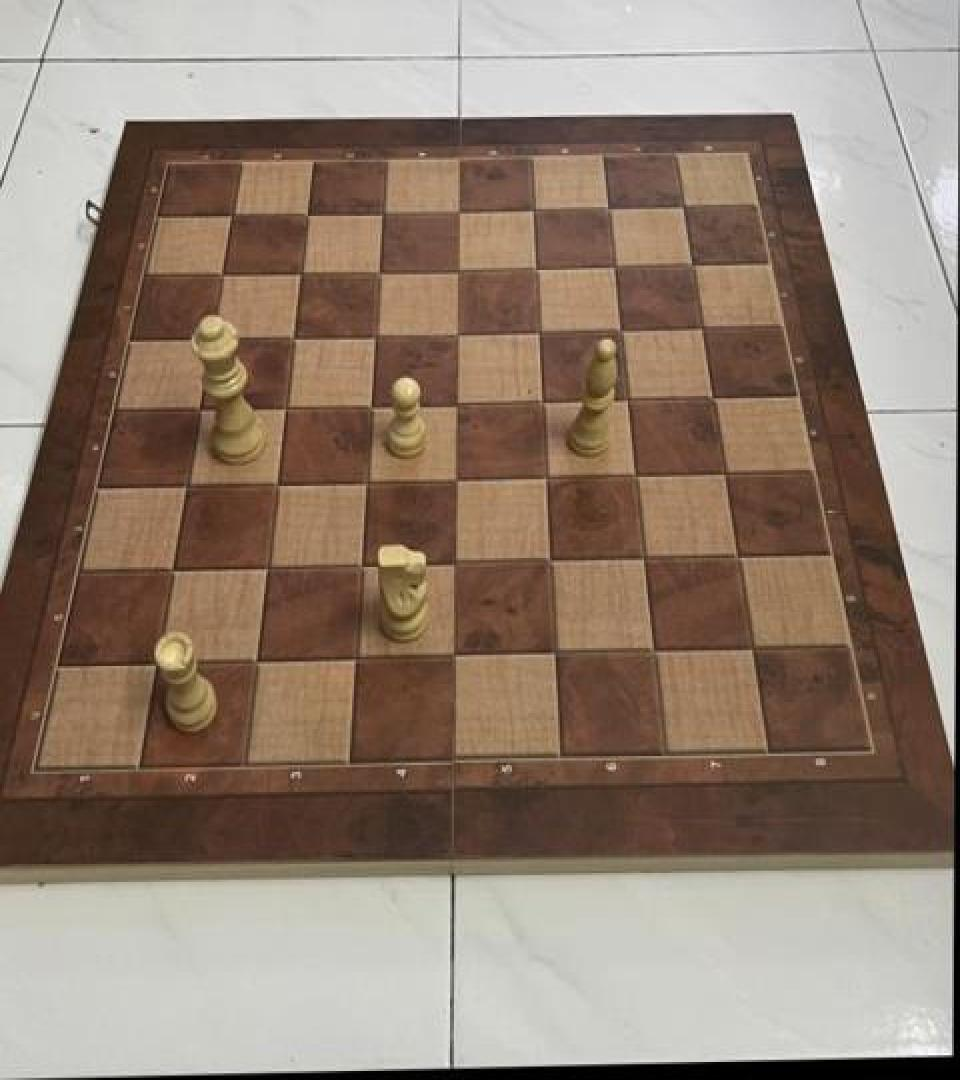xcorner: (207, 255, 241, 294), (686, 309, 720, 348), (278, 317, 312, 356), (708, 454, 742, 493), (667, 188, 701, 226), (592, 189, 626, 227), (517, 190, 551, 228), (442, 192, 476, 230), (367, 194, 401, 232), (292, 195, 326, 233), (216, 196, 250, 234), (676, 246, 710, 284), (598, 248, 632, 286), (520, 249, 554, 287), (442, 251, 476, 289), (364, 252, 398, 290), (285, 253, 319, 291), (605, 310, 639, 348), (523, 313, 557, 351), (442, 314, 476, 352), (360, 316, 394, 354), (196, 320, 230, 358), (697, 378, 731, 416), (612, 380, 646, 418), (527, 382, 561, 420), (441, 384, 475, 422), (356, 386, 390, 424), (270, 387, 304, 425), (184, 390, 218, 428), (619, 456, 653, 494), (530, 458, 564, 496), (441, 460, 475, 498), (351, 462, 385, 500), (262, 464, 296, 502), (172, 466, 206, 504), (721, 537, 755, 575), (628, 539, 662, 577), (534, 541, 568, 579), (440, 544, 474, 582), (346, 546, 380, 584), (252, 548, 286, 586), (158, 550, 192, 588), (735, 629, 769, 667), (637, 631, 671, 669), (538, 634, 572, 672), (440, 636, 474, 674), (341, 638, 375, 676), (242, 642, 276, 680), (142, 644, 176, 682)
